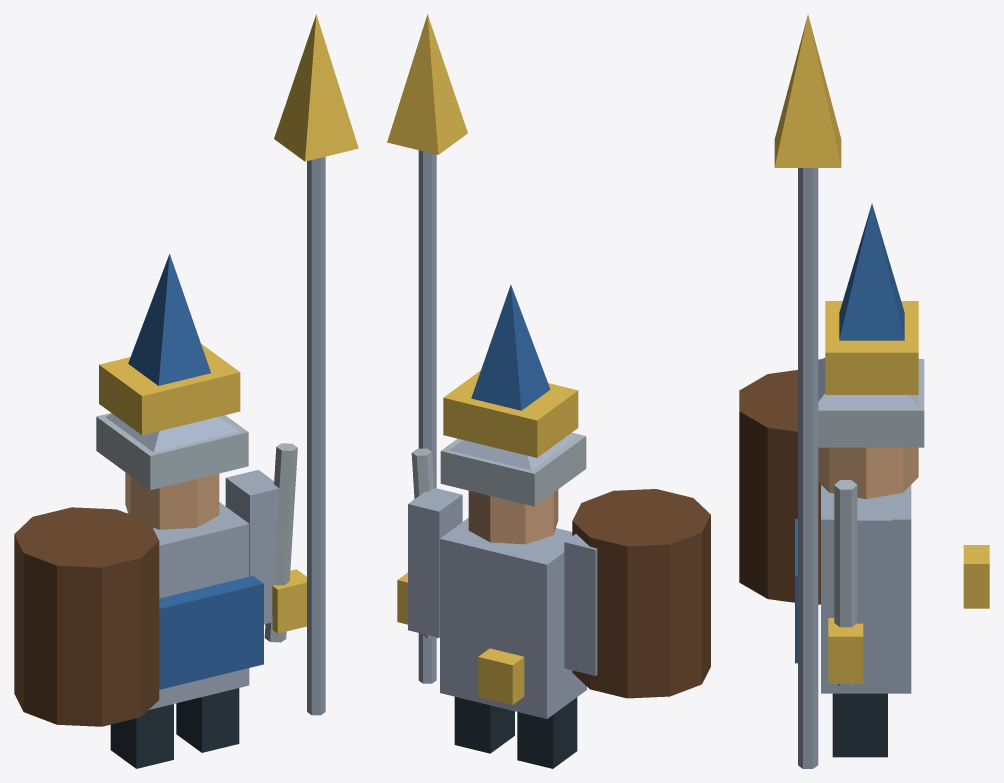
The model's file is pikeman.obj.
3 renders of one model, left to right at view 1: azimuth 30°, elevation 25°; view 2: azimuth 150°, elevation 25°; view 3: azimuth 270°, elevation 25°, orthographic. The views are drawn at different scales.
Visible parts, largest first — view 1: infantry; view 2: infantry; view 3: infantry.
Part boxes in pixels (x1,y1,x2,y2): infantry: (14, 14, 358, 768); infantry: (387, 14, 710, 768); infantry: (739, 14, 989, 768).
Size of the model in its own units: 1.36 by 2.95 by 0.8618.
